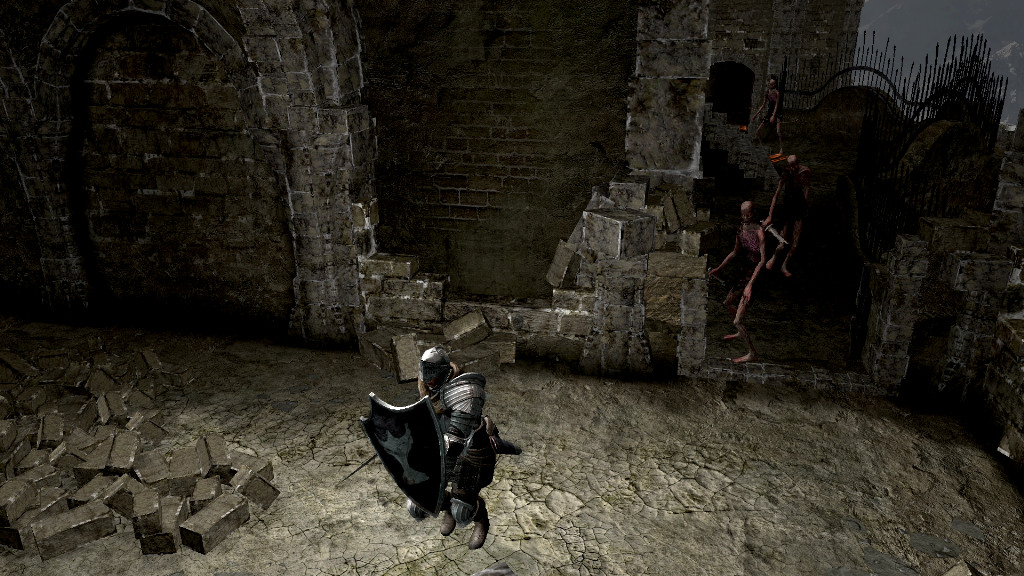hollow: (711, 198, 766, 365), (764, 154, 811, 278), (752, 78, 786, 156)
player: (336, 343, 502, 549)
